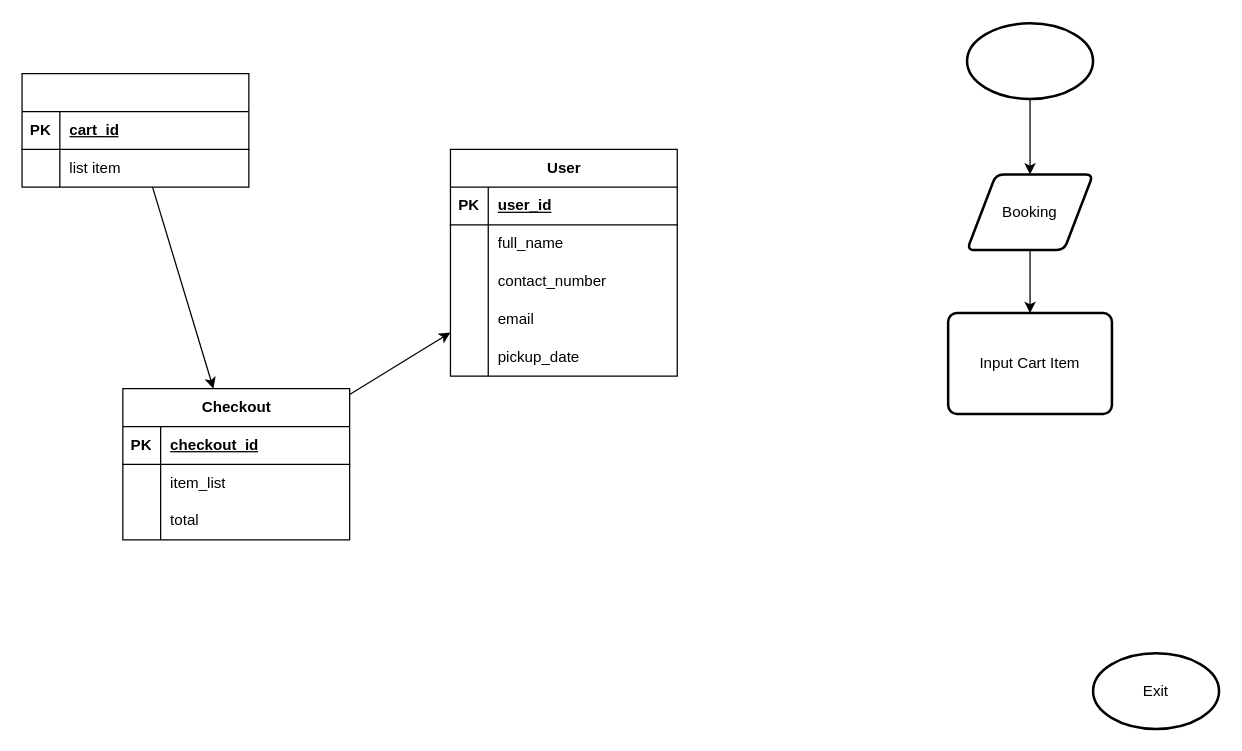
The diagram is 1242 pixels wide and 751 high, and some of its shapes have lost their labels. The shapes that lost their labels are listed below. From the top down, each one's box as (x1, y1, x2, y2) in pixels, then its label:
(965, 21, 1094, 100): Start
(21, 72, 249, 187): Cart Item
